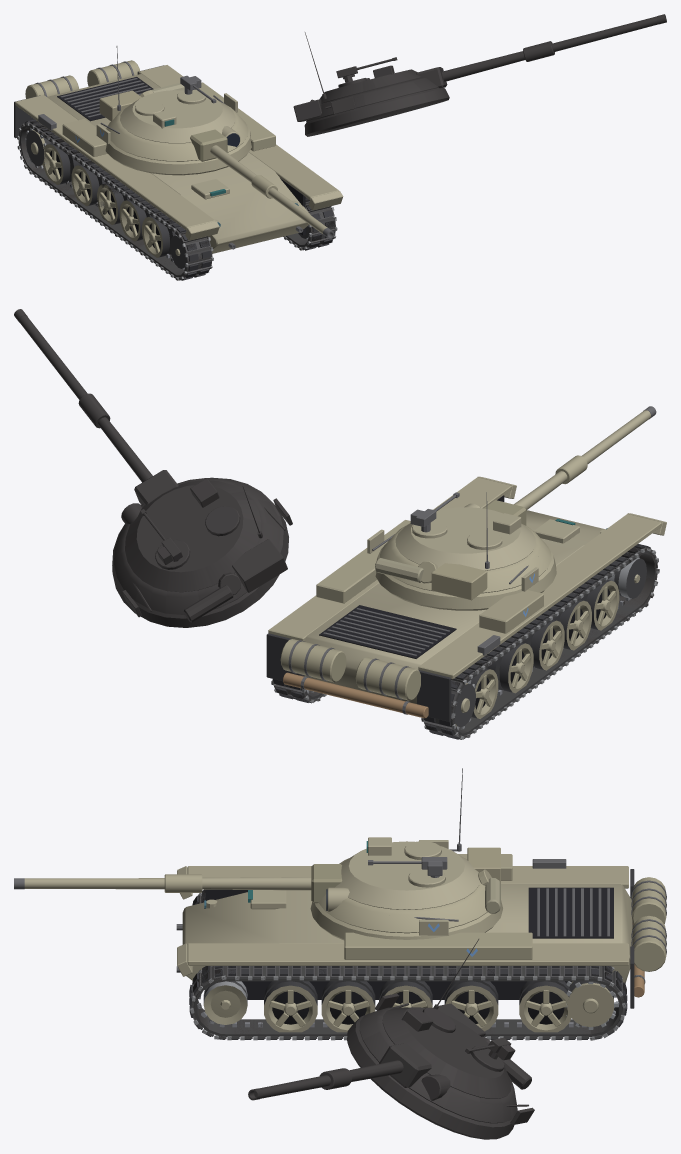
Rendered from tank__t_62_captured.glb.
3 renders of one model, top to bottom at view 1: azimuth 30°, elevation 25°; view 2: azimuth 150°, elevation 25°; view 3: azimuth 270°, elevation 25°, orthographic. The views are drawn at different scales.
Parts seen in each view (by area): view 1: Hull_Mesh, Wreck, Turret_Mesh, Track_L_Mesh, Gun_Mesh, Track_R_Mesh, Wheel_L0_Mesh, Wheel_L4_Mesh, Wheel_L1_Mesh, Wheel_L3_Mesh, Wheel_L2_Mesh, Sprocket_L_Mesh; view 2: Hull_Mesh, Wreck, Turret_Mesh, Track_L_Mesh, Gun_Mesh, Wheel_L1_Mesh, Wheel_L2_Mesh, Wheel_L4_Mesh, Wheel_L3_Mesh, Wheel_L0_Mesh, Idler_L_Mesh, Sprocket_L_Mesh (+1 smaller); view 3: Hull_Mesh, Wreck, Turret_Mesh, Track_R_Mesh, Gun_Mesh, Wheel_R4_Mesh, Wheel_R0_Mesh, Wheel_R3_Mesh, Sprocket_R_Mesh, Wheel_R1_Mesh, Idler_R_Mesh, Wheel_R2_Mesh (+2 smaller).
Part boxes in pixels (x1,y1,x2,y2): Hull_Mesh: (14, 60, 343, 253); Wreck: (17, 14, 666, 280); Turret_Mesh: (96, 83, 251, 175); Track_L_Mesh: (17, 119, 213, 280); Gun_Mesh: (190, 129, 334, 238); Track_R_Mesh: (283, 197, 337, 250); Wheel_L0_Mesh: (43, 143, 80, 184); Wheel_L4_Mesh: (142, 216, 176, 257); Wheel_L1_Mesh: (71, 164, 106, 206); Wheel_L3_Mesh: (119, 199, 150, 241); Wheel_L2_Mesh: (97, 183, 128, 224); Sprocket_L_Mesh: (25, 127, 51, 168); Hull_Mesh: (266, 476, 666, 721); Wreck: (14, 309, 659, 737); Turret_Mesh: (367, 503, 556, 610); Track_L_Mesh: (421, 544, 659, 739); Gun_Mesh: (484, 406, 656, 525); Wheel_L1_Mesh: (487, 642, 533, 693); Wheel_L2_Mesh: (522, 620, 564, 670); Wheel_L4_Mesh: (580, 580, 619, 630); Wheel_L3_Mesh: (553, 599, 591, 650); Wheel_L0_Mesh: (470, 668, 498, 718); Idler_L_Mesh: (608, 557, 646, 598); Sprocket_L_Mesh: (454, 680, 475, 730); Hull_Mesh: (176, 854, 666, 1008); Wreck: (190, 889, 626, 1139); Turret_Mesh: (310, 840, 502, 940); Track_R_Mesh: (189, 966, 627, 1040); Gun_Mesh: (14, 864, 342, 903); Wheel_R4_Mesh: (264, 981, 317, 1032); Wheel_R0_Mesh: (519, 981, 571, 1032); Wheel_R3_Mesh: (321, 981, 375, 1032); Sprocket_R_Mesh: (565, 981, 618, 1029); Wheel_R1_Mesh: (444, 981, 498, 1031); Idler_R_Mesh: (203, 981, 247, 1024); Wheel_R2_Mesh: (379, 981, 432, 1007).
Size of what is drawn, in the model's own units: 11.18 by 3.31 by 9.71.
